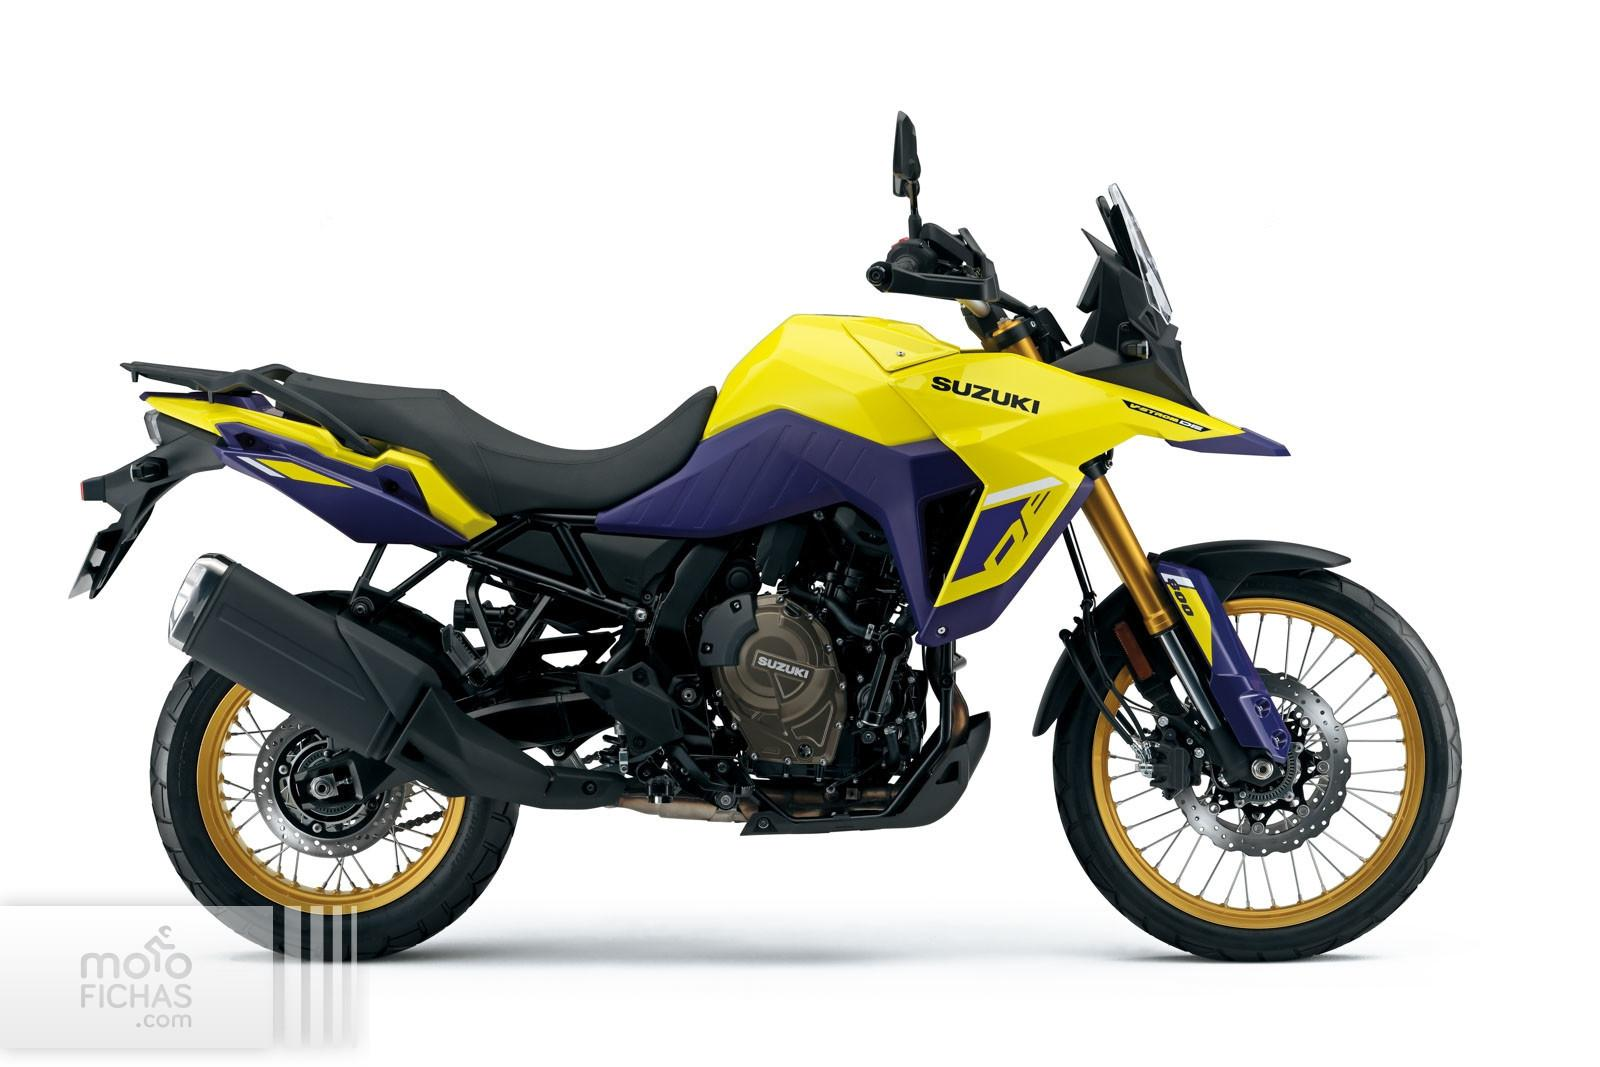engine-chasis: (539, 504, 990, 836)
exhaust: (168, 553, 758, 823), (755, 779, 907, 816), (948, 685, 969, 751)
frontside: (593, 183, 1356, 788)
handlebar: (865, 111, 1104, 363)
rearside: (68, 362, 695, 715), (465, 693, 613, 770), (295, 750, 418, 812)
seat: (285, 372, 717, 518)
tank: (700, 313, 961, 445)
watermark: (0, 900, 361, 1062)
wheel: (1051, 569, 1464, 965), (146, 656, 520, 963), (1060, 519, 1155, 778)
